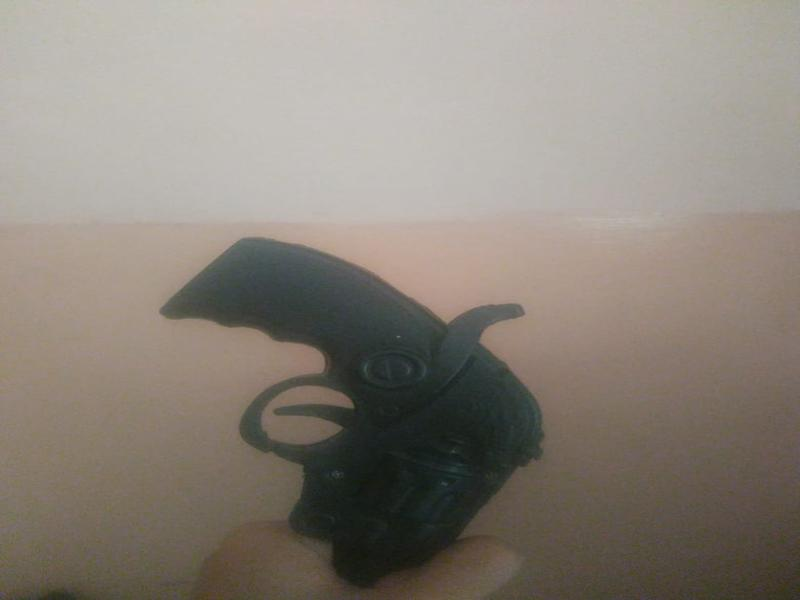gun: (153, 216, 570, 556)
